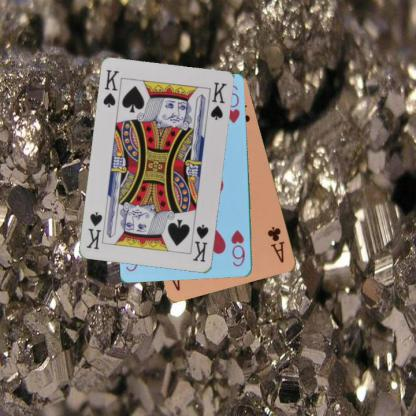6h: (228, 228, 246, 268)
Ac: (265, 224, 286, 264)
Ks: (100, 68, 121, 109), (190, 222, 210, 263)
